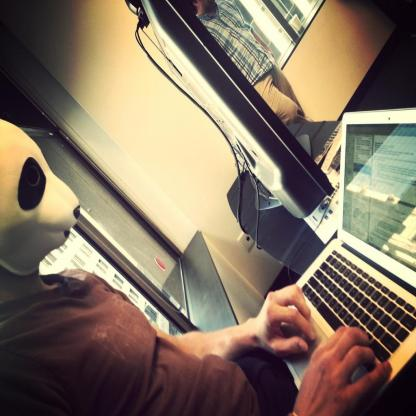board: (268, 106, 416, 403)
